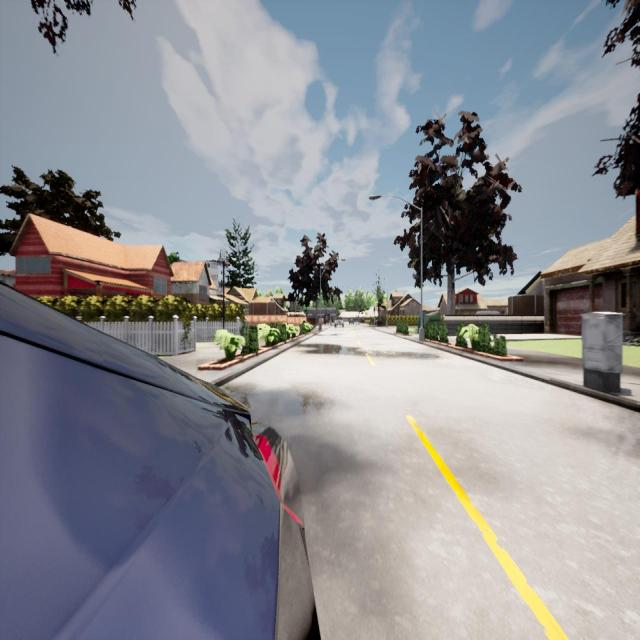Vehicle: (0, 286, 321, 638), (334, 317, 344, 328), (349, 318, 354, 325)
